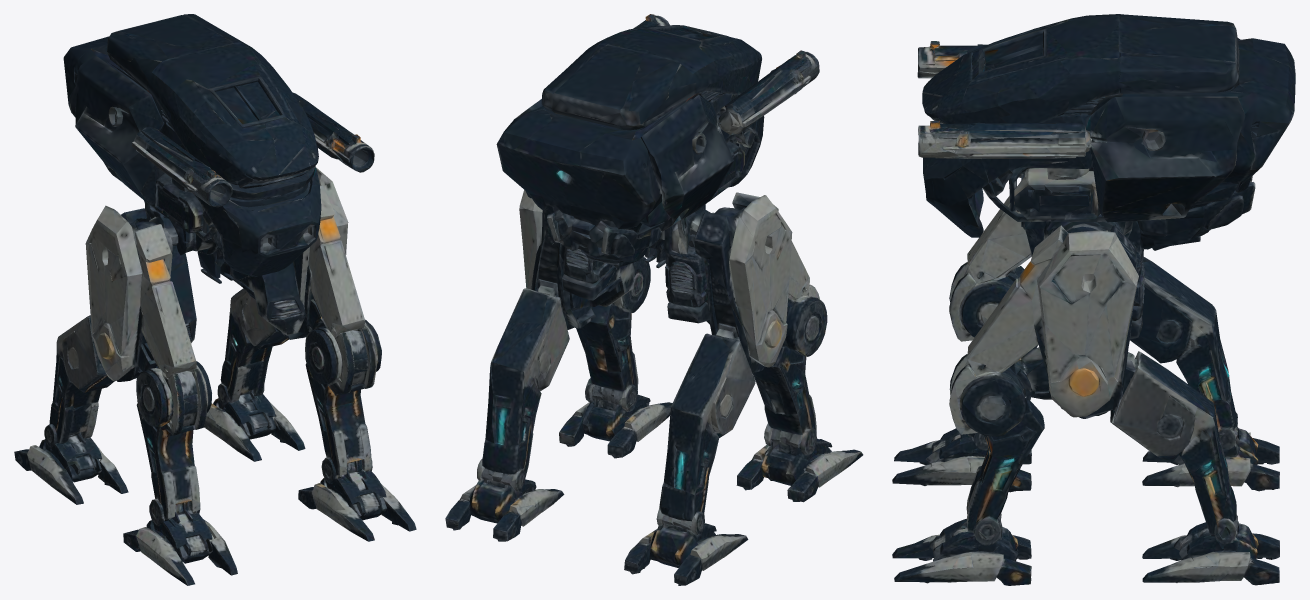
Rendered from v_goliath.glb.
3 views of the same model, side by side, from view 1: azimuth 30°, elevation 25°; view 2: azimuth 150°, elevation 25°; view 3: azimuth 270°, elevation 25° (orthographic). The views are drawn at different scales.
Visible parts, largest first — view 1: mesh_0; view 2: mesh_0; view 3: mesh_0.
Boxes of the visible parts, left/top/right/bottom form: mesh_0: left=14, top=14, right=416, bottom=585; mesh_0: left=445, top=14, right=863, bottom=585; mesh_0: left=892, top=14, right=1295, bottom=585.
Size of the model in its own units: 1.08 by 1.9 by 1.42.
1 material, 1 textured.
